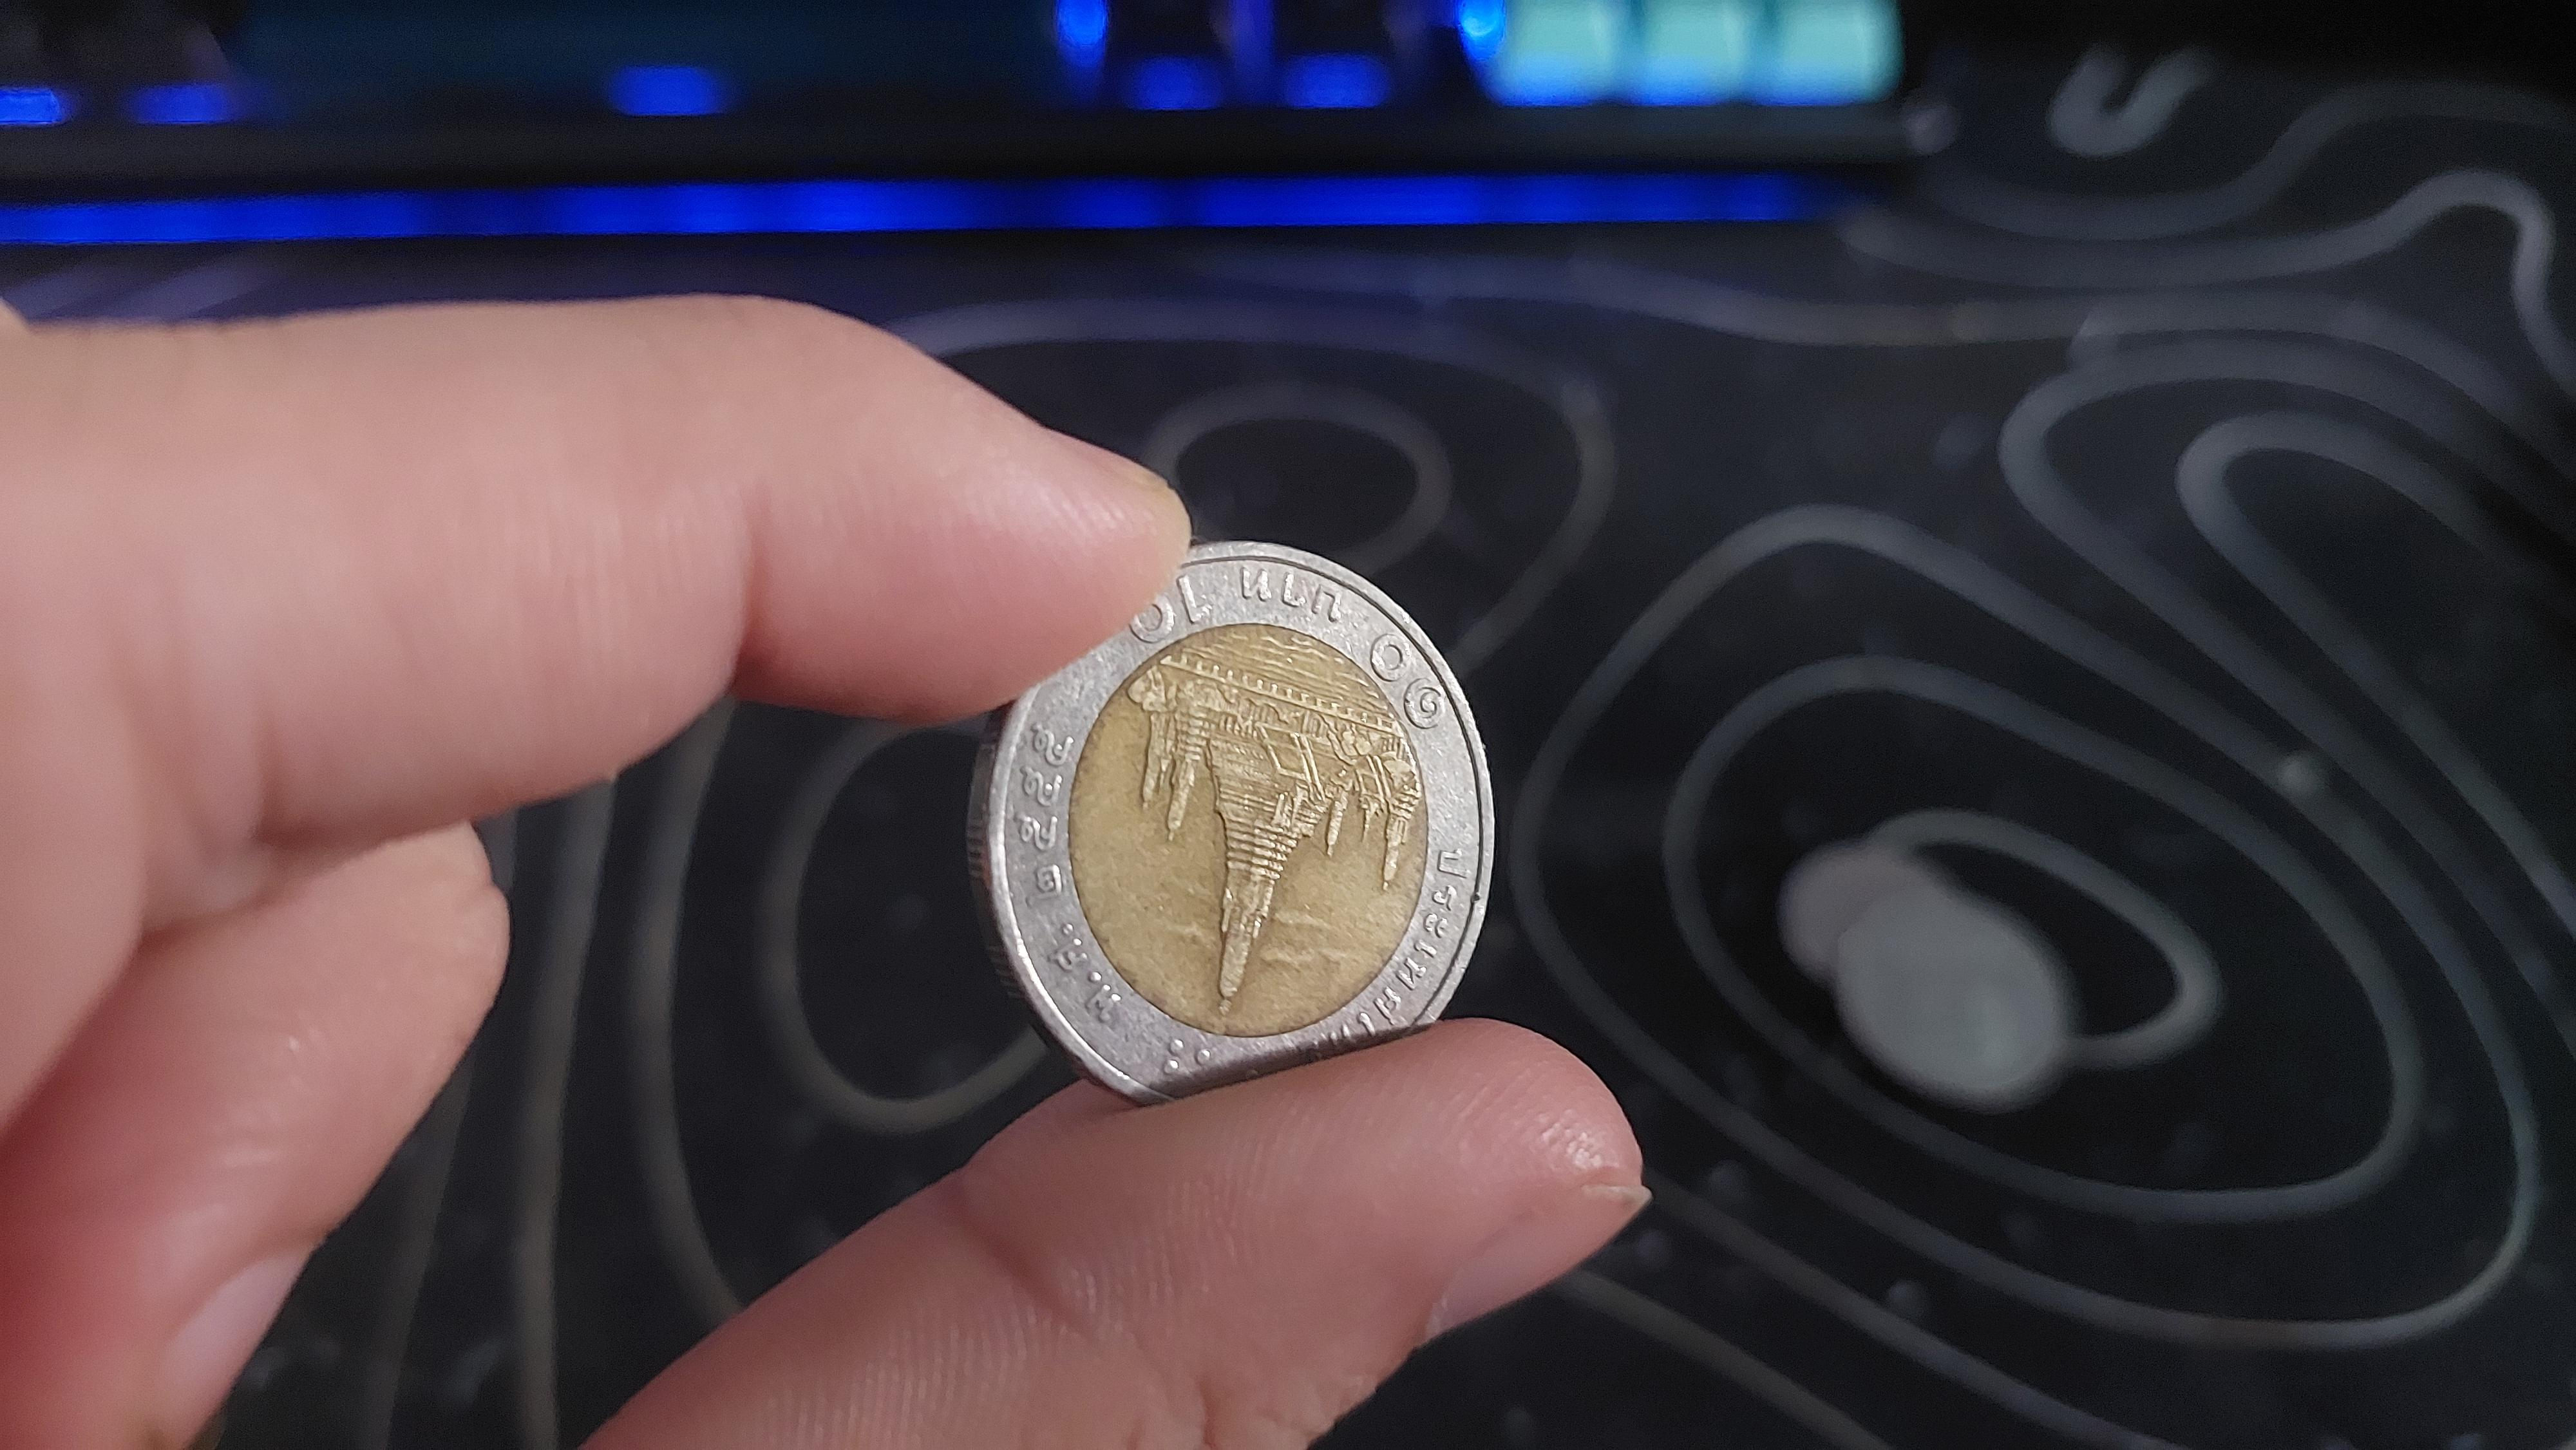10baht: (958, 515, 1615, 1107)
